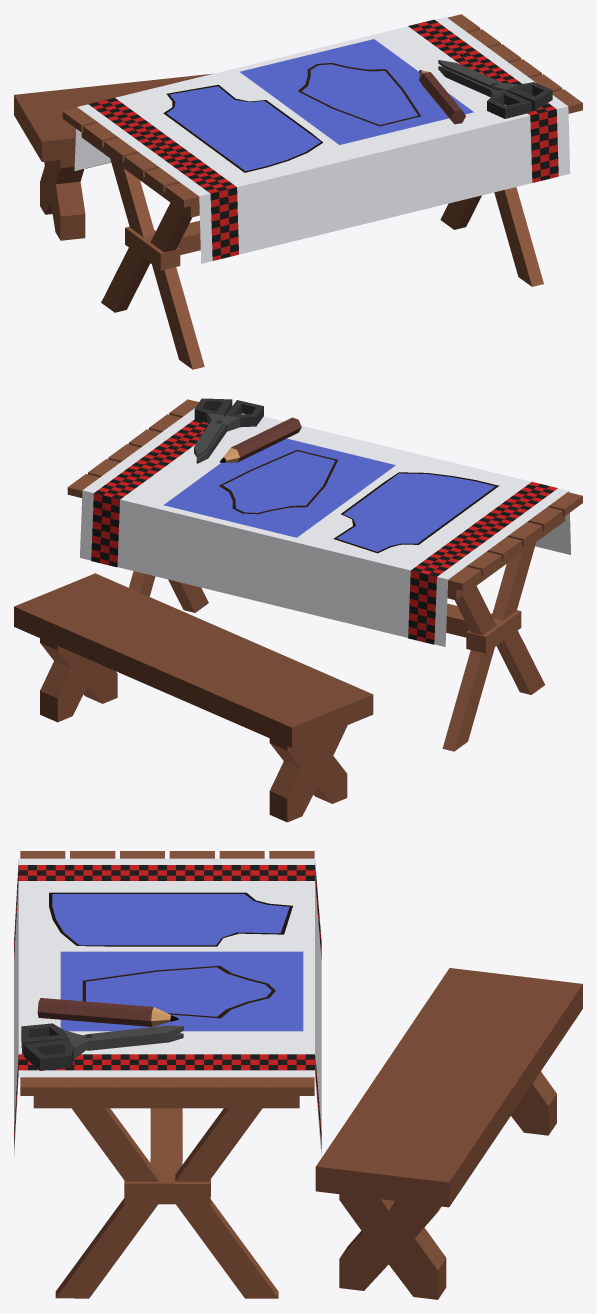
The model's file is sewing_table.fbx.
The picture shows the model from 3 angles, top to bottom: view 1: azimuth 30°, elevation 25°; view 2: azimuth 150°, elevation 25°; view 3: azimuth 270°, elevation 25°; orthographic projection. The views are drawn at different scales.
Parts seen in each view (by area): view 1: table_cross.001, Plane, banch.001, scissors_left, scissors_right, pencil; view 2: table_cross.001, banch.001, Plane, pencil, scissors_left, scissors_right; view 3: table_cross.001, banch.001, Plane, scissors_left, pencil, scissors_right.
Part boxes in pixels (box(x1,y1,x2,y2)): table_cross.001: box(62, 14, 582, 369); Plane: box(163, 39, 473, 172); banch.001: box(14, 73, 212, 240); scissors_left: box(438, 60, 552, 110); scissors_right: box(438, 66, 531, 118); pencil: box(419, 70, 465, 124); table_cross.001: box(67, 399, 582, 751); banch.001: box(14, 573, 373, 822); Plane: box(163, 438, 499, 553); pencil: box(219, 417, 301, 462); scissors_left: box(194, 398, 232, 457); scissors_right: box(196, 400, 263, 463); table_cross.001: box(14, 851, 321, 1298); banch.001: box(315, 968, 582, 1299); Plane: box(49, 892, 303, 1031); scissors_left: box(23, 1025, 183, 1070); pencil: box(37, 998, 178, 1026); scissors_right: box(21, 1023, 183, 1054).
Size of the model in its own units: 105 by 50.52 by 107.
